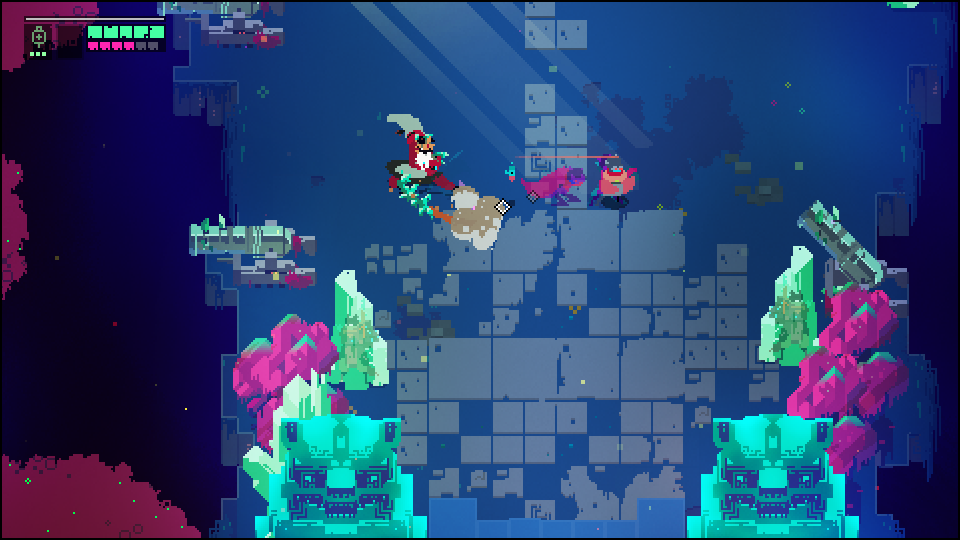hanged_man: (380, 112, 476, 229)
player: (592, 149, 637, 209)
